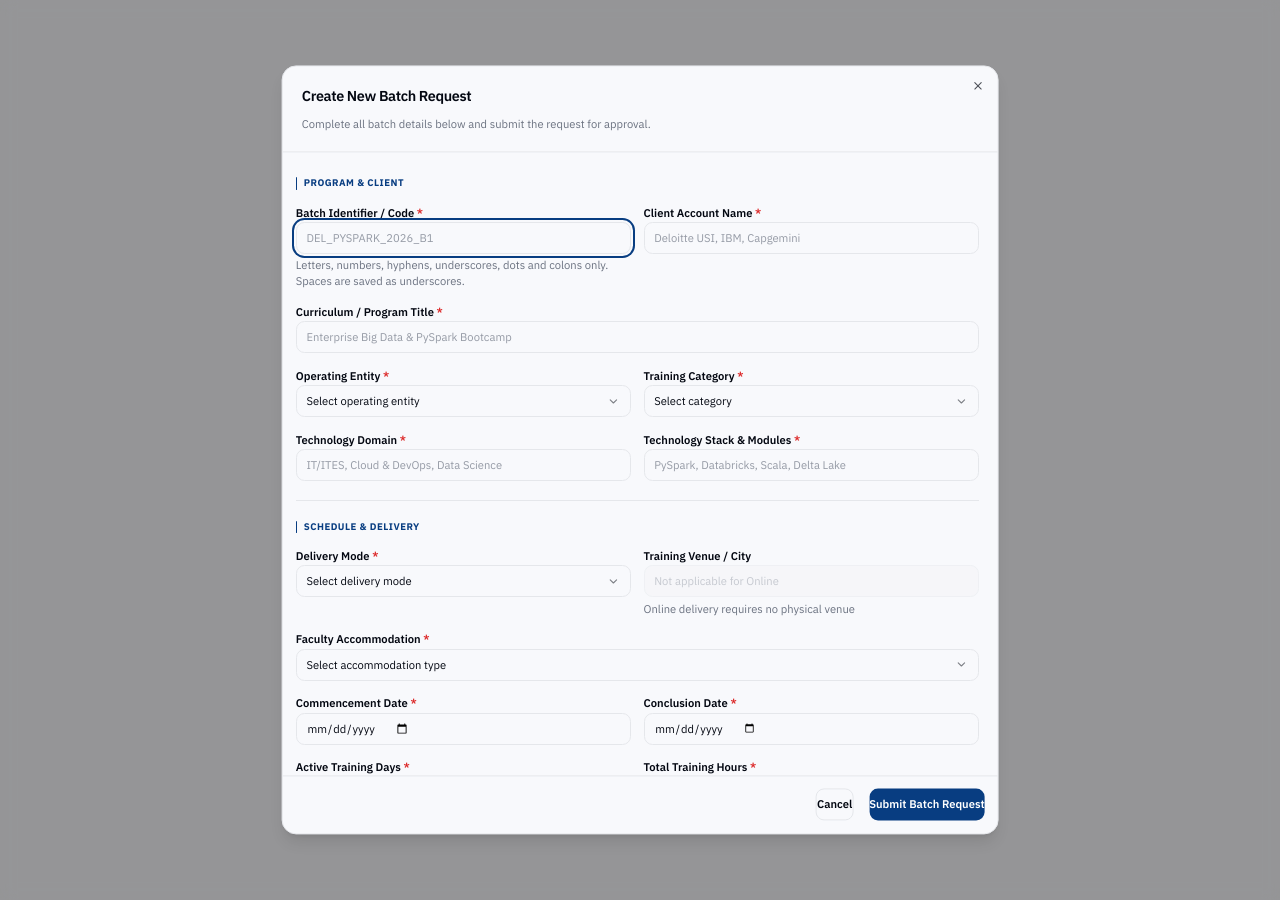
Test case: CreateBatchModal faculty chip field › shows the inclusive calendar-day count live while filling the schedule
Type "2024-01-01" into the date field labelled "Commencement Date *".
click(463, 729); type("2024-01-01")  # box [295,713,630,745]
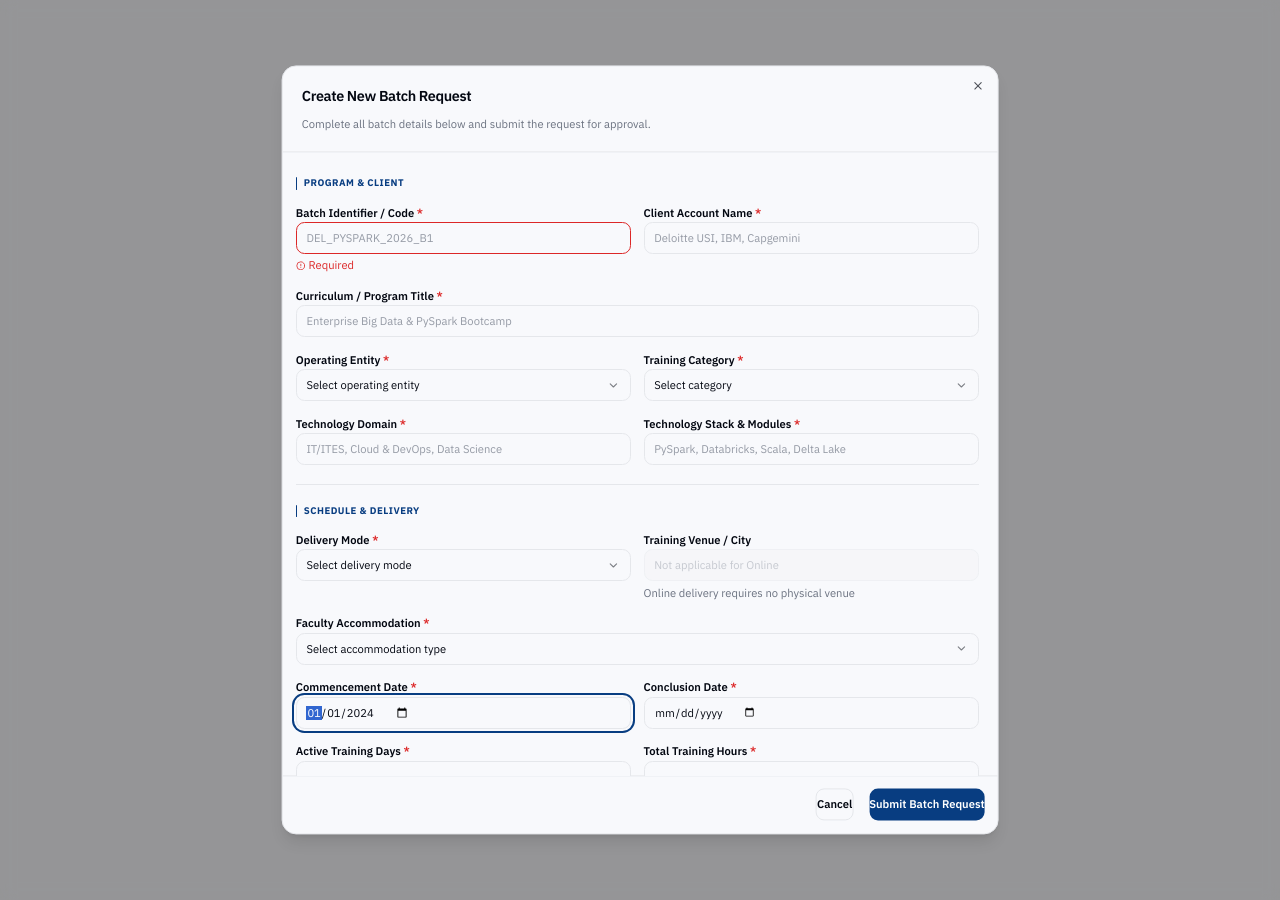
Type "2024-01-05" into the date field labelled "Conclusion Date *".
click(811, 713); type("2024-01-05")  # box [643,697,978,729]
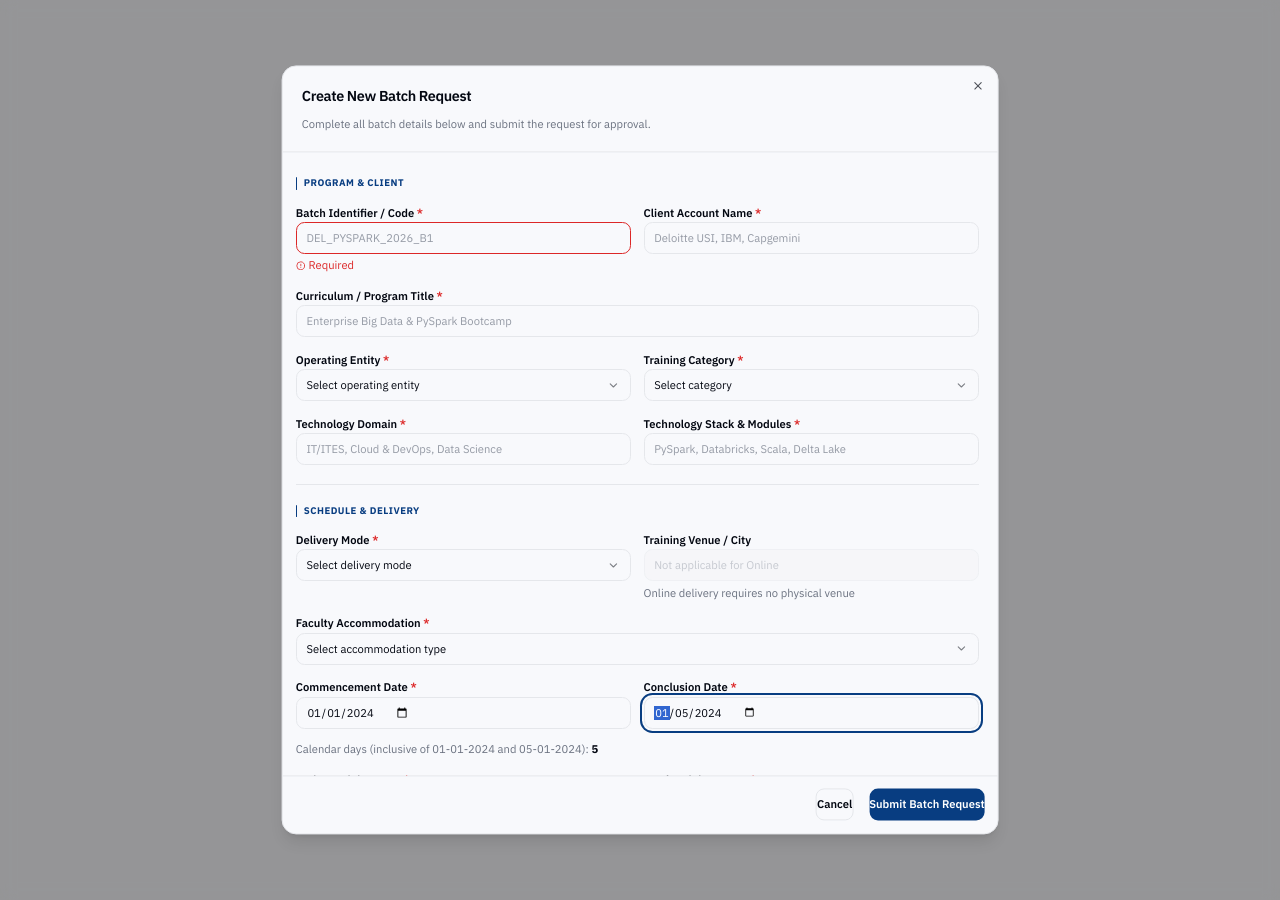
Expected: the text "5" reads "Calendar days (inclusive of 01-01-2024 and 05-01-2024): 5", [295,743,598,757]
